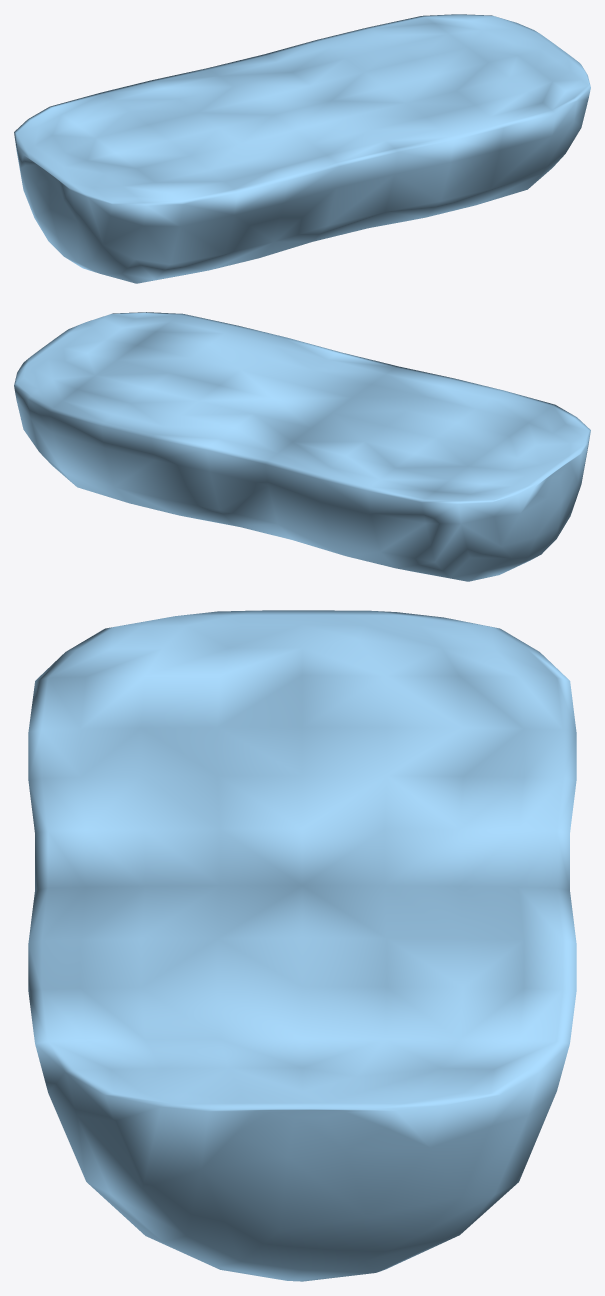
File: p_mesh_oreprospector_watertank_waterblendshape_pose0.fbx
3 views of the same model, one above another, from view 1: azimuth 30°, elevation 25°; view 2: azimuth 150°, elevation 25°; view 3: azimuth 270°, elevation 25° (orthographic). The views are drawn at different scales.
Visible parts, largest first — view 1: obj_interactive_oreprospector_fillingup_pose2.002; view 2: obj_interactive_oreprospector_fillingup_pose2.002; view 3: obj_interactive_oreprospector_fillingup_pose2.002.
Part boxes in pixels (box(x1,y1,x2,y2)): obj_interactive_oreprospector_fillingup_pose2.002: box(14, 14, 590, 283); obj_interactive_oreprospector_fillingup_pose2.002: box(14, 312, 590, 581); obj_interactive_oreprospector_fillingup_pose2.002: box(28, 610, 576, 1281).
Size of the model in its own units: 8.62 by 2 by 4.
